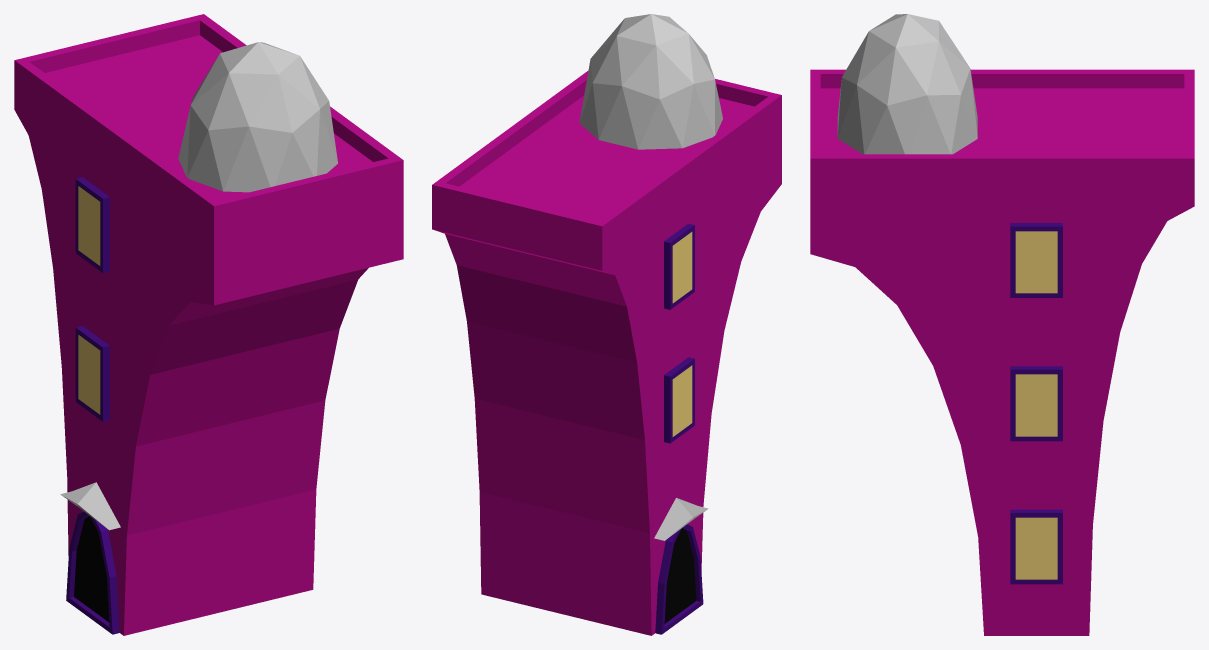
Rendered from bridge-standard.fbx.
3 renders of one model, left to right at view 1: azimuth 30°, elevation 25°; view 2: azimuth 150°, elevation 25°; view 3: azimuth 270°, elevation 25°, orthographic. The views are drawn at different scales.
Visible parts, largest first — view 1: Empty_Mesh; view 2: Empty_Mesh; view 3: Empty_Mesh.
Boxes of the visible parts, bbox=[...] form: Empty_Mesh: bbox=[14, 14, 403, 635]; Empty_Mesh: bbox=[432, 14, 781, 635]; Empty_Mesh: bbox=[810, 14, 1194, 635].
Size of the model in its own units: 455 by 1210 by 730.
